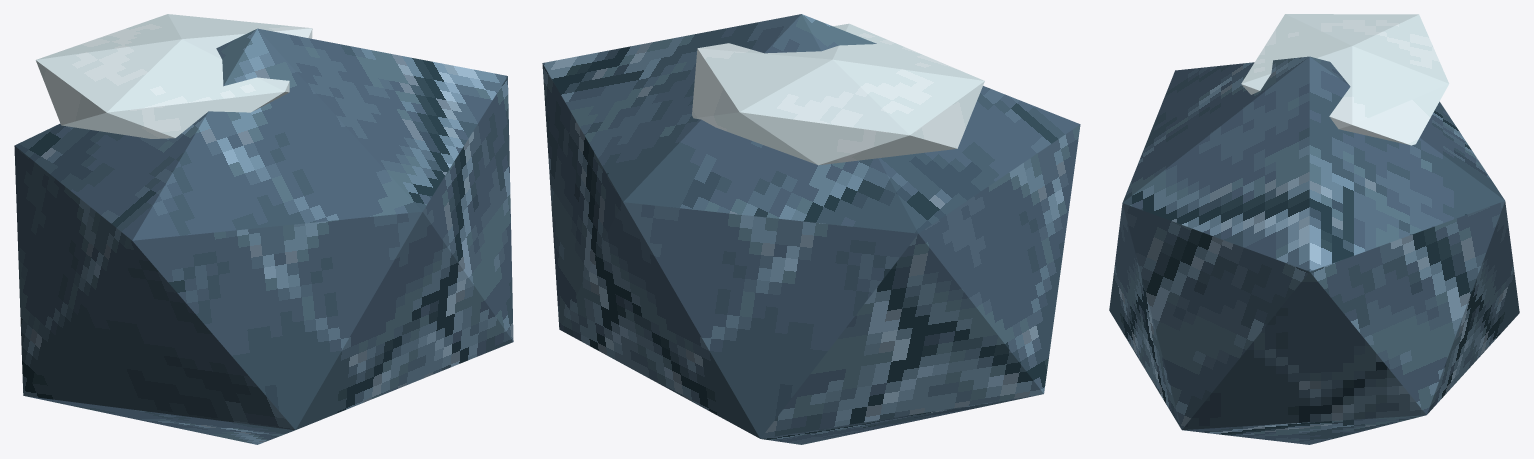
Rendered from pedra.fbx.
The picture shows the model from 3 angles, left to right: view 1: azimuth 30°, elevation 25°; view 2: azimuth 150°, elevation 25°; view 3: azimuth 270°, elevation 25°; orthographic projection. The views are drawn at different scales.
Visible parts, largest first — view 1: neve_pedra; view 2: neve_pedra; view 3: neve_pedra.
Boxes of the visible parts, x1,y1,x2,y2 form: neve_pedra: (14, 14, 513, 444); neve_pedra: (542, 14, 1080, 444); neve_pedra: (1109, 14, 1519, 444).
Size of the model in its own units: 73.53 by 60.37 by 57.82.
2 materials, 2 textured.
